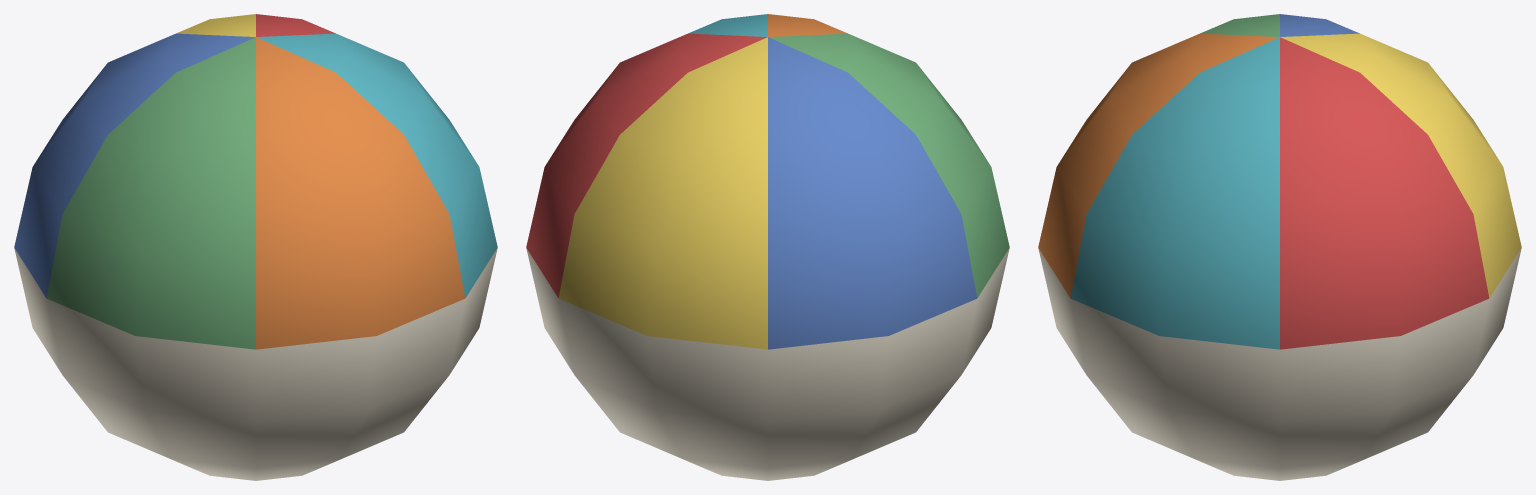
File: pelota_colores.glb
3 views of the same model, side by side, from view 1: azimuth 30°, elevation 25°; view 2: azimuth 150°, elevation 25°; view 3: azimuth 270°, elevation 25° (orthographic).
Visible parts, largest first — view 1: pelota_colores; view 2: pelota_colores; view 3: pelota_colores.
Part boxes in pixels (left/top/right/bottom): pelota_colores: left=14, top=14, right=497, bottom=480; pelota_colores: left=526, top=14, right=1009, bottom=480; pelota_colores: left=1038, top=14, right=1521, bottom=480.
Size of the model in its own units: 0.8 by 0.768 by 0.8.
